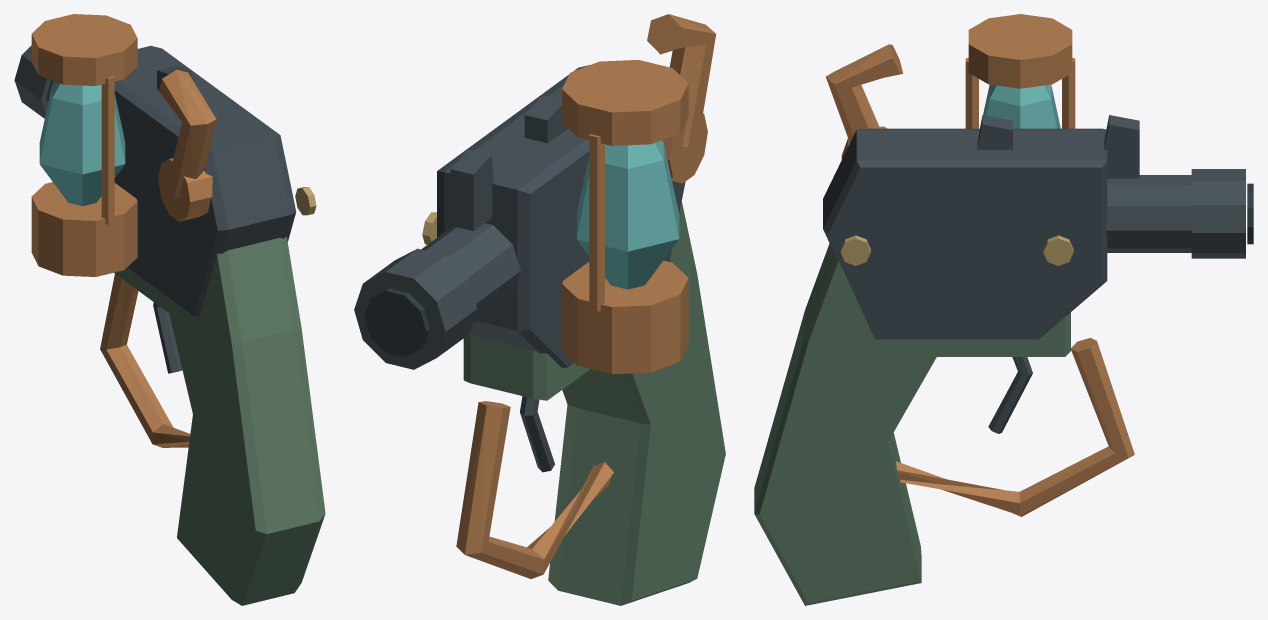
File: AEW_Pistol_MothSpark.fbx
The picture shows the model from 3 angles, left to right: view 1: azimuth 30°, elevation 25°; view 2: azimuth 150°, elevation 25°; view 3: azimuth 270°, elevation 25°; orthographic projection. The views are drawn at different scales.
Visible parts, largest first — view 1: AEW_Pistol_MothSpark; view 2: AEW_Pistol_MothSpark; view 3: AEW_Pistol_MothSpark.
Boxes of the visible parts, x1=… form: AEW_Pistol_MothSpark: x1=14, y1=14, x2=325, y2=605; AEW_Pistol_MothSpark: x1=354, y1=14, x2=725, y2=605; AEW_Pistol_MothSpark: x1=754, y1=14, x2=1253, y2=605.
Size of the model in its own units: 0.177 by 0.4559 by 0.394.
